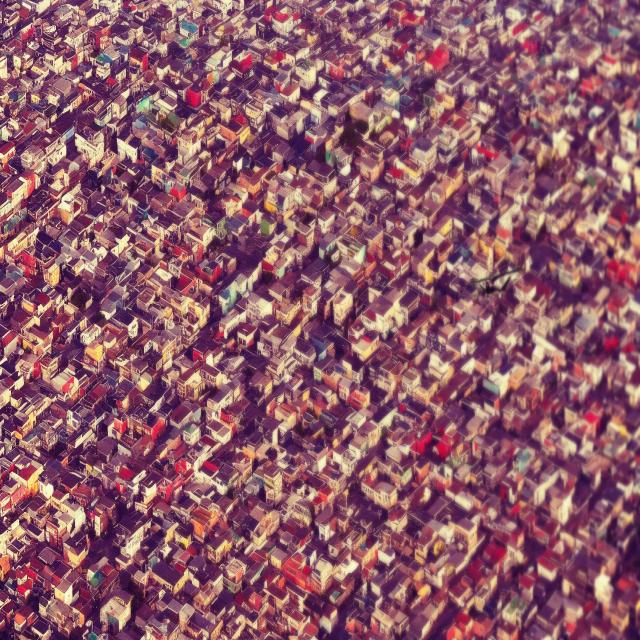airplane: (471, 266, 524, 299)
